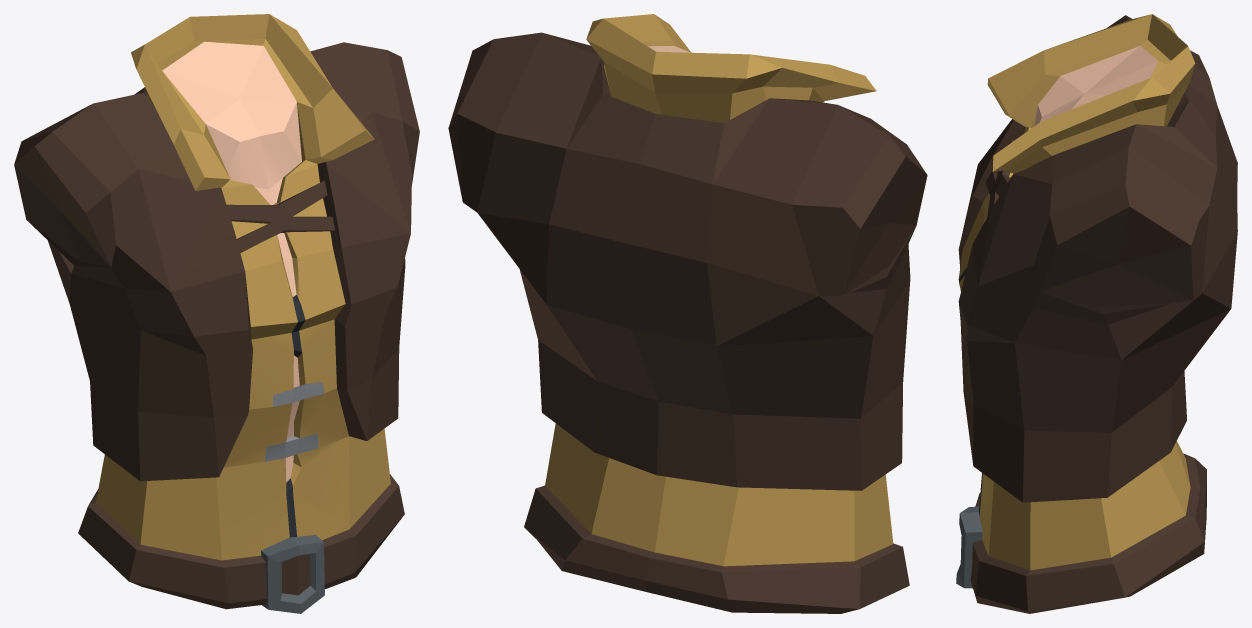
File: Chr_Torso_Male_28_Static.fbx
3 renders of one model, left to right at view 1: azimuth 30°, elevation 25°; view 2: azimuth 150°, elevation 25°; view 3: azimuth 270°, elevation 25°, orthographic. The views are drawn at different scales.
Parts seen in each view (by area): view 1: Chr_Torso_Male_28_Static; view 2: Chr_Torso_Male_28_Static; view 3: Chr_Torso_Male_28_Static.
Part boxes in pixels (<box>): Chr_Torso_Male_28_Static: <box>14,14,419,613</box>; Chr_Torso_Male_28_Static: <box>448,14,927,613</box>; Chr_Torso_Male_28_Static: <box>956,14,1237,613</box>.
Size of the model in its own units: 0.502 by 0.6748 by 0.3198.
